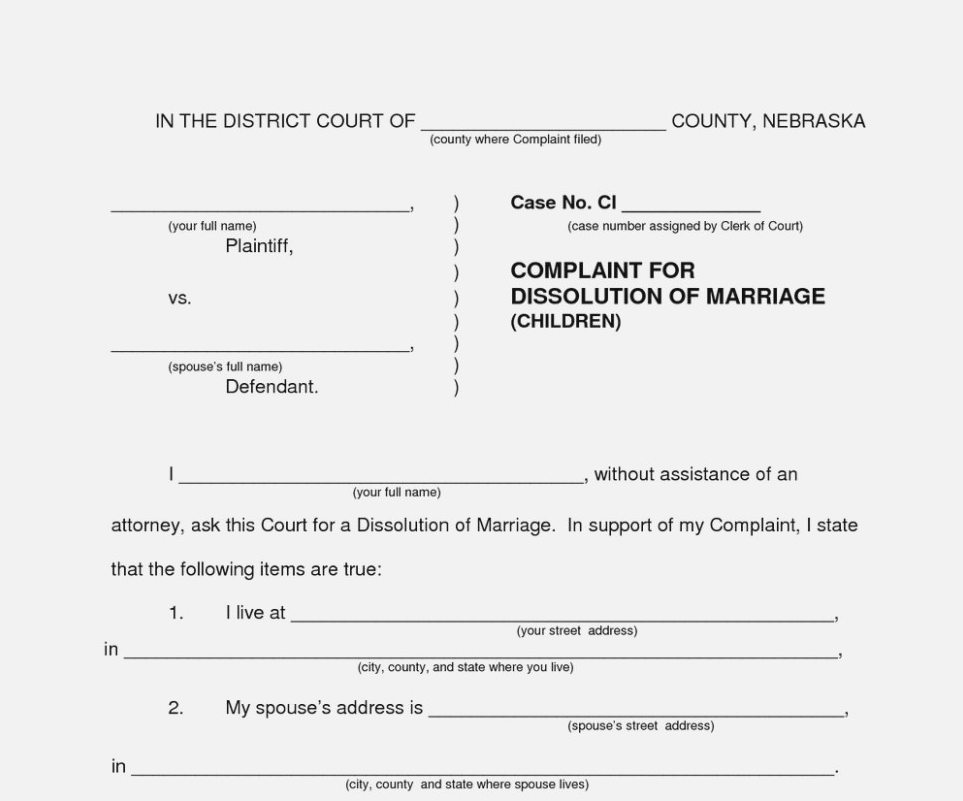textline: (120, 635, 844, 662), (128, 755, 838, 778), (288, 598, 838, 625), (422, 695, 850, 722), (176, 461, 588, 486), (106, 195, 417, 217), (105, 334, 416, 356), (417, 114, 671, 133), (621, 191, 763, 217)
